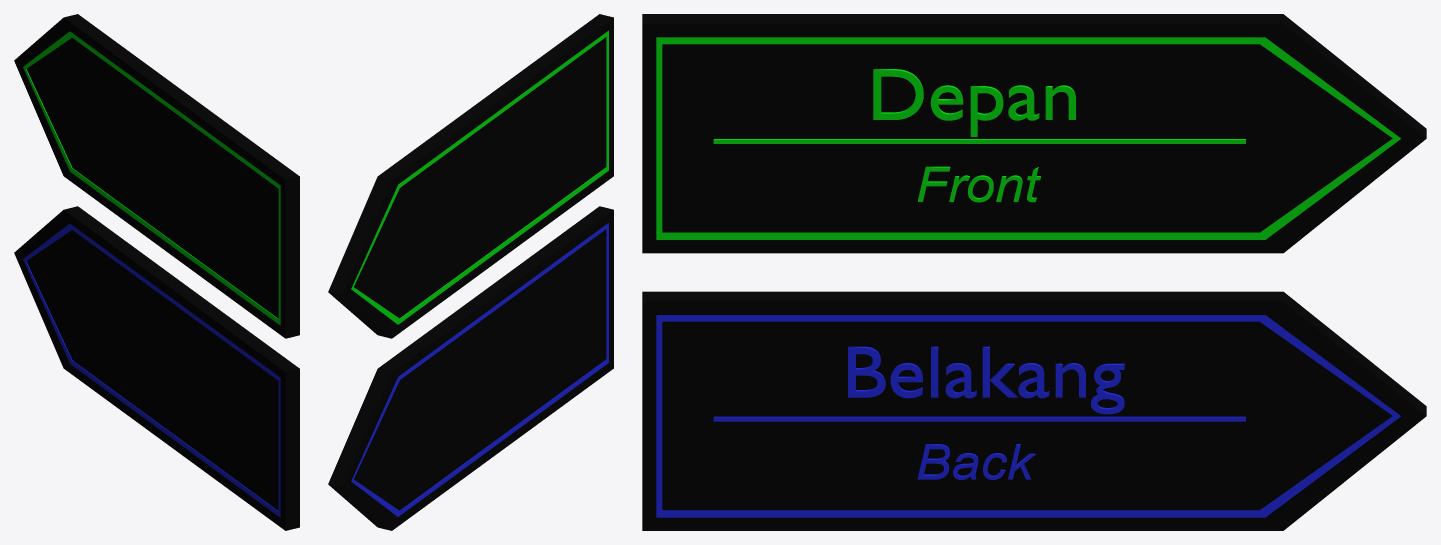
Rendered from Depan_dan_belakang_Button.fbx.
The picture shows the model from 3 angles, left to right: view 1: azimuth 30°, elevation 25°; view 2: azimuth 150°, elevation 25°; view 3: azimuth 270°, elevation 25°; orthographic projection. The views are drawn at different scales.
Parts seen in each view (by area): view 1: Cube.029, Cube.003, Cube.002, Cube.030, Cube.004, Cube.028; view 2: Cube.029, Cube.003, Cube.030, Cube.002, Cube.028, Cube.004; view 3: Cube.029, Cube.003, Cube.030, Cube.002, Cube.028, Cube.004, Text.002, Text.014, Cube.001, Cube.031, Text.001, Text.015.
Boxes of the visible parts, <box> form: Cube.029: <box>26,38,278,318</box>; Cube.003: <box>26,230,278,510</box>; Cube.002: <box>14,206,299,530</box>; Cube.030: <box>14,14,299,338</box>; Cube.004: <box>23,223,280,517</box>; Cube.028: <box>23,31,280,325</box>; Cube.029: <box>354,37,606,318</box>; Cube.003: <box>354,229,606,510</box>; Cube.030: <box>328,14,613,338</box>; Cube.002: <box>328,206,613,530</box>; Cube.028: <box>351,30,608,324</box>; Cube.004: <box>351,223,608,516</box>; Cube.029: <box>662,44,1392,232</box>; Cube.003: <box>662,321,1392,510</box>; Cube.030: <box>642,14,1426,253</box>; Cube.002: <box>642,291,1426,530</box>; Cube.028: <box>656,37,1400,239</box>; Cube.004: <box>656,315,1400,517</box>; Text.002: <box>848,346,1124,414</box>; Text.014: <box>873,69,1075,136</box>; Cube.001: <box>713,416,1245,421</box>; Cube.031: <box>713,139,1245,143</box>; Text.001: <box>917,444,1035,479</box>; Text.015: <box>918,166,1040,202</box>.
Size of the model in its own units: 7.3 by 158 by 221.
